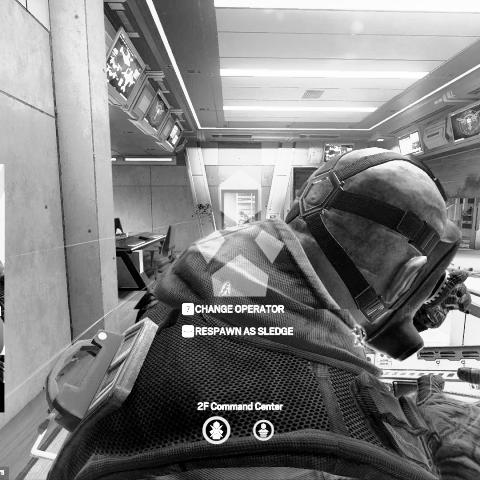Character: (34, 145, 479, 480), (237, 209, 250, 226)
Head: (296, 148, 460, 355), (238, 208, 243, 214)
